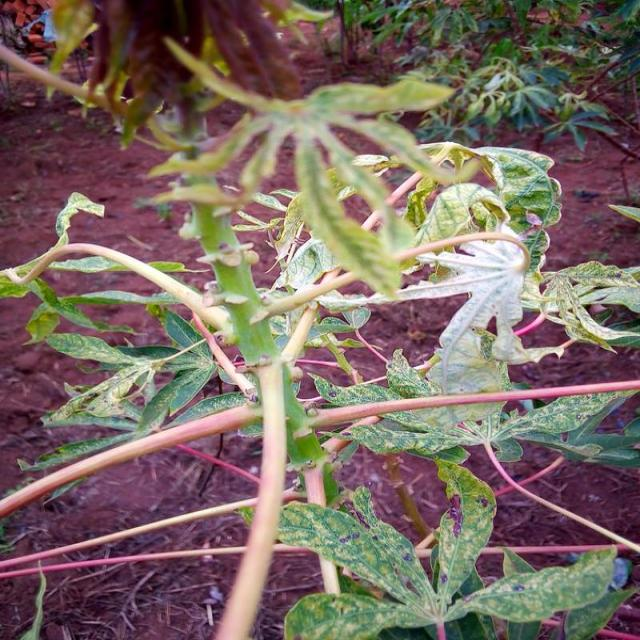cassava leaf: (2, 1, 640, 637), (249, 456, 633, 638)
